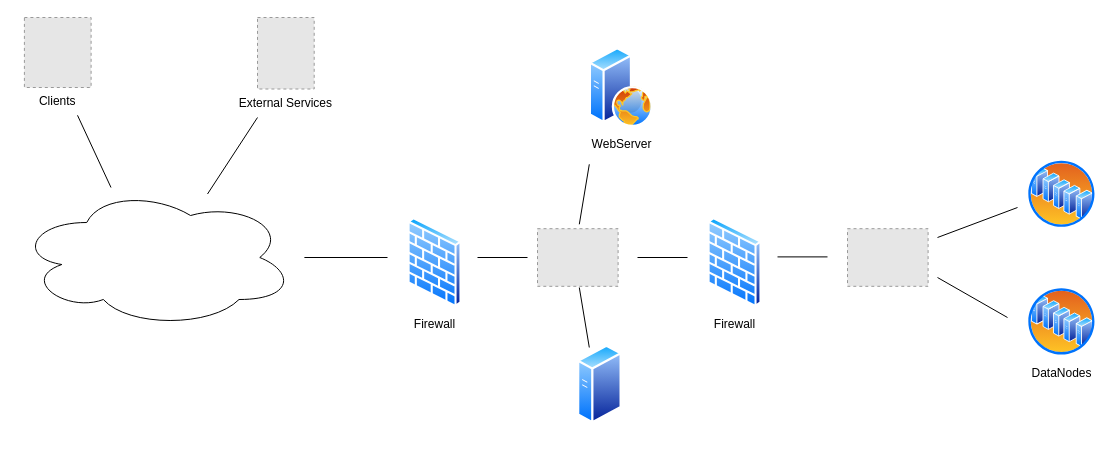
Some shapes in this 1117 by 466 pixel diagram are drawn without their labels. Grey dashed boxes stand in for pictures. The shapes that lost their labels are listed below. From the top down, each one's centre as x and y in pixels, then its label:
At point (1061, 193): "ServiceNodes".
At point (155, 257): "Public Internet".
At point (599, 384): "ApiGatewayNode".
